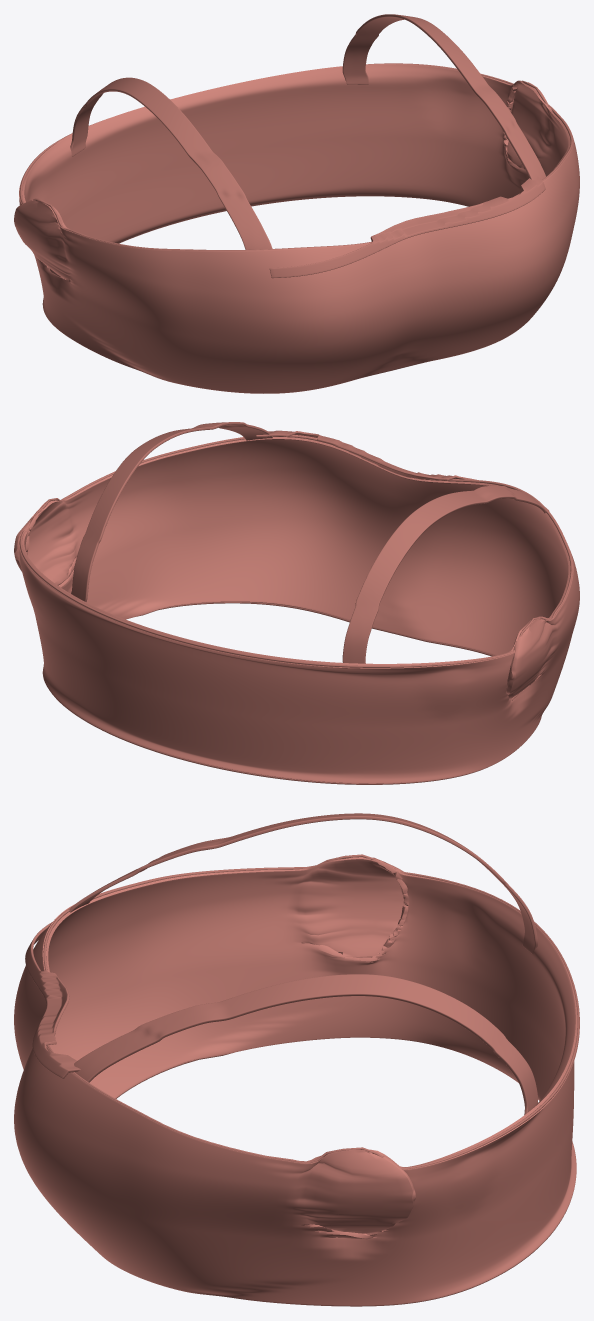
Rendered from Feminine-strappy-top.glb.
3 renders of one model, top to bottom at view 1: azimuth 30°, elevation 25°; view 2: azimuth 150°, elevation 25°; view 3: azimuth 270°, elevation 25°, orthographic. The views are drawn at different scales.
Parts seen in each view (by area): view 1: Clothing / strappy body, Clothing / Strappy seated shoulder strap -1, Clothing / Strappy seated shoulder strap 1, Crop / seated cross strap, Top / seated binding191 1 export; view 2: Clothing / strappy body, Clothing / Strappy seated shoulder strap -1, Clothing / Strappy seated shoulder strap 1, Top / seated binding191 1 export, Top / seated binding191 0 export, Crop / seated cross strap; view 3: Clothing / strappy body, Clothing / Strappy seated shoulder strap 1, Clothing / Strappy seated shoulder strap -1, Top / seated binding191 1 export, Crop / seated cross strap, Top / seated binding191 0 export.
Boxes of the visible parts, left/top/right/bottom form: Clothing / strappy body: left=14, top=64, right=579, bottom=393; Clothing / Strappy seated shoulder strap -1: left=70, top=77, right=272, bottom=249; Clothing / Strappy seated shoulder strap 1: left=342, top=14, right=545, bottom=180; Crop / seated cross strap: left=269, top=177, right=545, bottom=278; Top / seated binding191 1 export: left=19, top=63, right=572, bottom=250; Clothing / strappy body: left=14, top=434, right=579, bottom=783; Clothing / Strappy seated shoulder strap -1: left=342, top=485, right=546, bottom=663; Clothing / Strappy seated shoulder strap 1: left=71, top=422, right=272, bottom=601; Top / seated binding191 1 export: left=19, top=435, right=572, bottom=667; Top / seated binding191 0 export: left=51, top=602, right=493, bottom=784; Crop / seated cross strap: left=256, top=430, right=549, bottom=511; Clothing / strappy body: left=14, top=855, right=579, bottom=1305; Clothing / Strappy seated shoulder strap 1: left=74, top=974, right=537, bottom=1114; Clothing / Strappy seated shoulder strap -1: left=69, top=813, right=537, bottom=954; Top / seated binding191 1 export: left=43, top=854, right=579, bottom=1169; Crop / seated cross strap: left=25, top=922, right=80, bottom=1078; Top / seated binding191 0 export: left=115, top=1053, right=574, bottom=1306.
Size of the model in its own units: 0.6455 by 0.288 by 0.5076.
